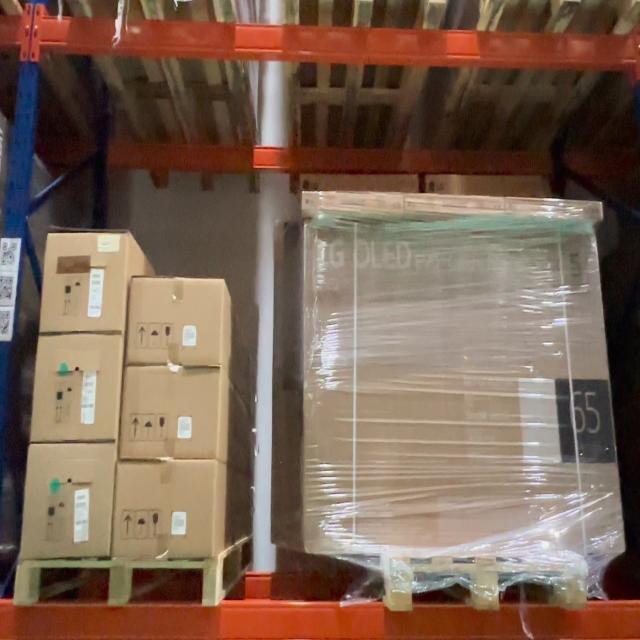box: (307, 227, 594, 545), (118, 461, 214, 551), (31, 448, 109, 554), (125, 369, 215, 456), (130, 278, 220, 364), (41, 341, 117, 441), (46, 245, 122, 332), (405, 191, 505, 217), (303, 190, 403, 214), (508, 198, 602, 217)
